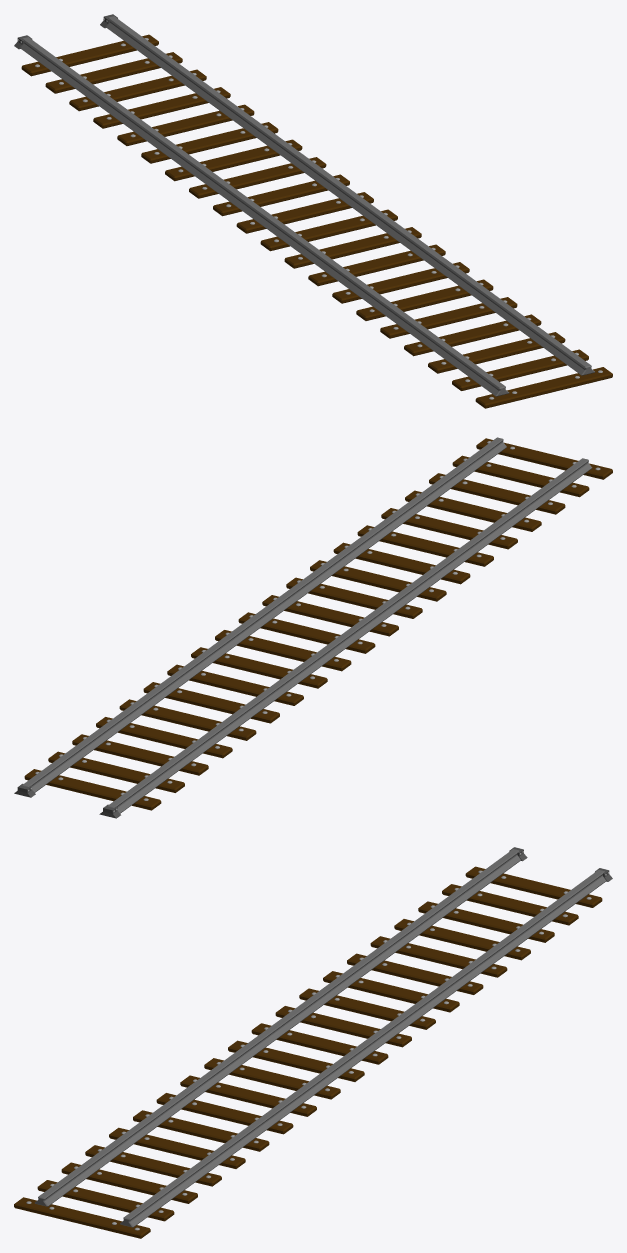
The model's file is Train.fbx.
The picture shows the model from 3 angles, top to bottom: view 1: azimuth 30°, elevation 25°; view 2: azimuth 150°, elevation 25°; view 3: azimuth 330°, elevation 25°; orthographic projection.
Visible parts, largest first — view 1: pCube2, pCube1, pCube20, pCube14, pCube10, pCube18, pCube16, pCube12, pCube8, pCube5, pCube3, pCube22 (+10 smaller); view 2: pCube2, pCube1, pCube20, pCube3, pCube15, pCube5, pCube18, pCube7, pCube13, pCube21, pCube24, pCube14 (+10 smaller); view 3: pCube2, pCube1, pCube20, pCube15, pCube12, pCube3, pCube9, pCube17, pCube6, pCube4, pCube24, pCube7 (+10 smaller).
Boxes of the visible parts, bbox=[...] form: pCube2: bbox=[106, 16, 594, 375]; pCube1: bbox=[20, 37, 509, 396]; pCube20: bbox=[475, 367, 612, 408]; pCube14: bbox=[141, 122, 278, 163]; pCube10: bbox=[380, 297, 517, 338]; pCube18: bbox=[45, 52, 182, 93]; pCube16: bbox=[93, 87, 230, 128]; pCube12: bbox=[189, 157, 326, 198]; pCube8: bbox=[332, 262, 469, 303]; pCube5: bbox=[284, 227, 421, 268]; pCube3: bbox=[236, 192, 373, 233]; pCube22: bbox=[428, 332, 565, 373]; pCube2: bbox=[22, 437, 506, 792]; pCube1: bbox=[107, 458, 592, 813]; pCube20: bbox=[476, 438, 612, 479]; pCube3: bbox=[238, 612, 375, 653]; pCube15: bbox=[119, 699, 256, 740]; pCube5: bbox=[286, 577, 422, 618]; pCube18: bbox=[48, 751, 184, 792]; pCube7: bbox=[405, 490, 541, 531]; pCube13: bbox=[167, 664, 303, 705]; pCube21: bbox=[452, 455, 589, 497]; pCube24: bbox=[24, 769, 161, 810]; pCube14: bbox=[143, 682, 279, 723]; pCube2: bbox=[120, 870, 606, 1227]; pCube1: bbox=[35, 849, 520, 1206]; pCube20: bbox=[14, 1197, 150, 1238]; pCube15: bbox=[370, 936, 507, 977]; pCube12: bbox=[299, 988, 435, 1029]; pCube3: bbox=[251, 1023, 388, 1064]; pCube9: bbox=[133, 1110, 269, 1151]; pCube17: bbox=[418, 901, 554, 942]; pCube6: bbox=[180, 1075, 316, 1116]; pCube4: bbox=[228, 1040, 364, 1081]; pCube24: bbox=[465, 866, 602, 907]; pCube7: bbox=[85, 1145, 221, 1186].
Bounding box in the file's own units: 4.67 × 0.4498 × 30.46.
